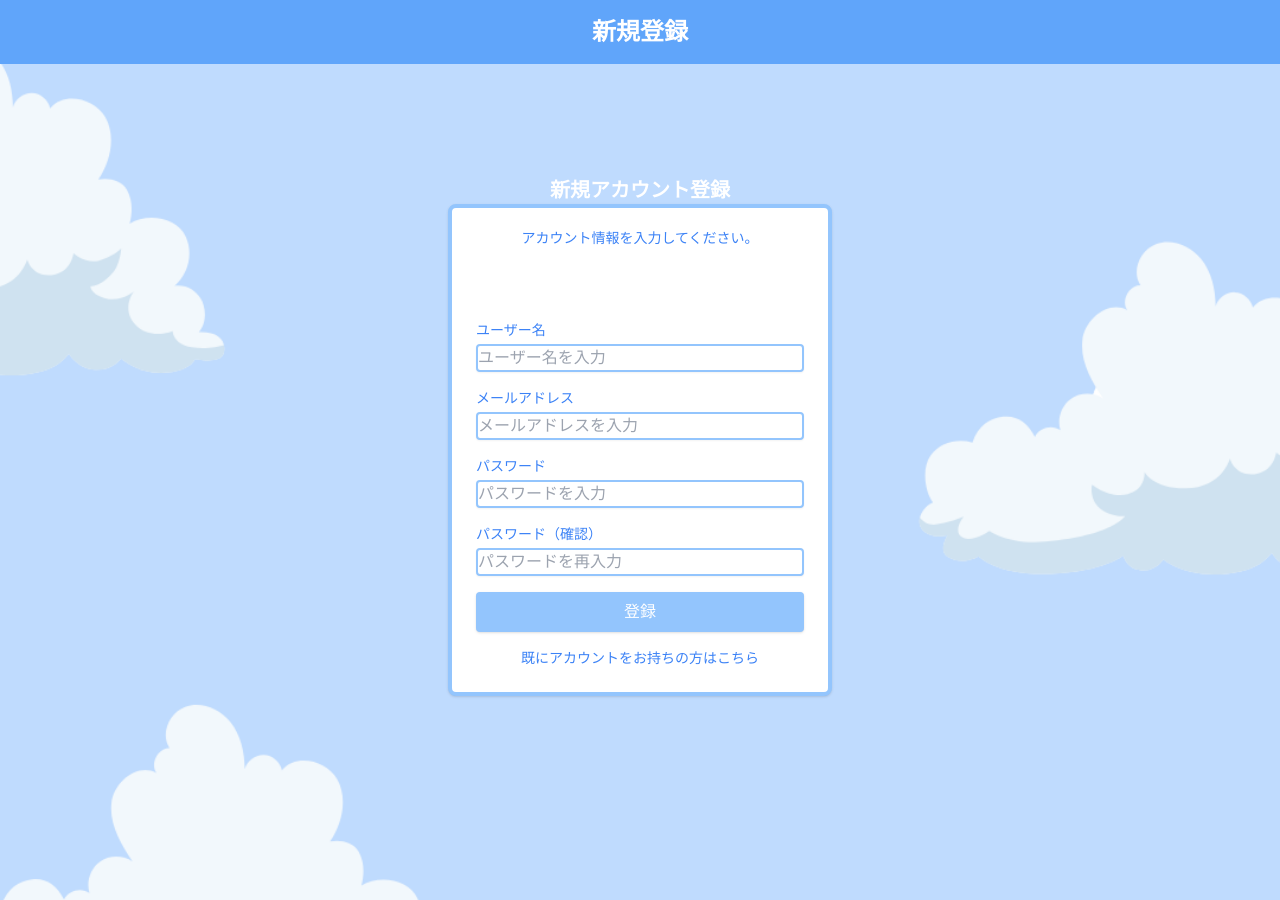
it: SignUpPage › validates username
Type "invalid@username" into the field labelled "ユーザー名" at x=640, y=358, box [476,344,804,372]
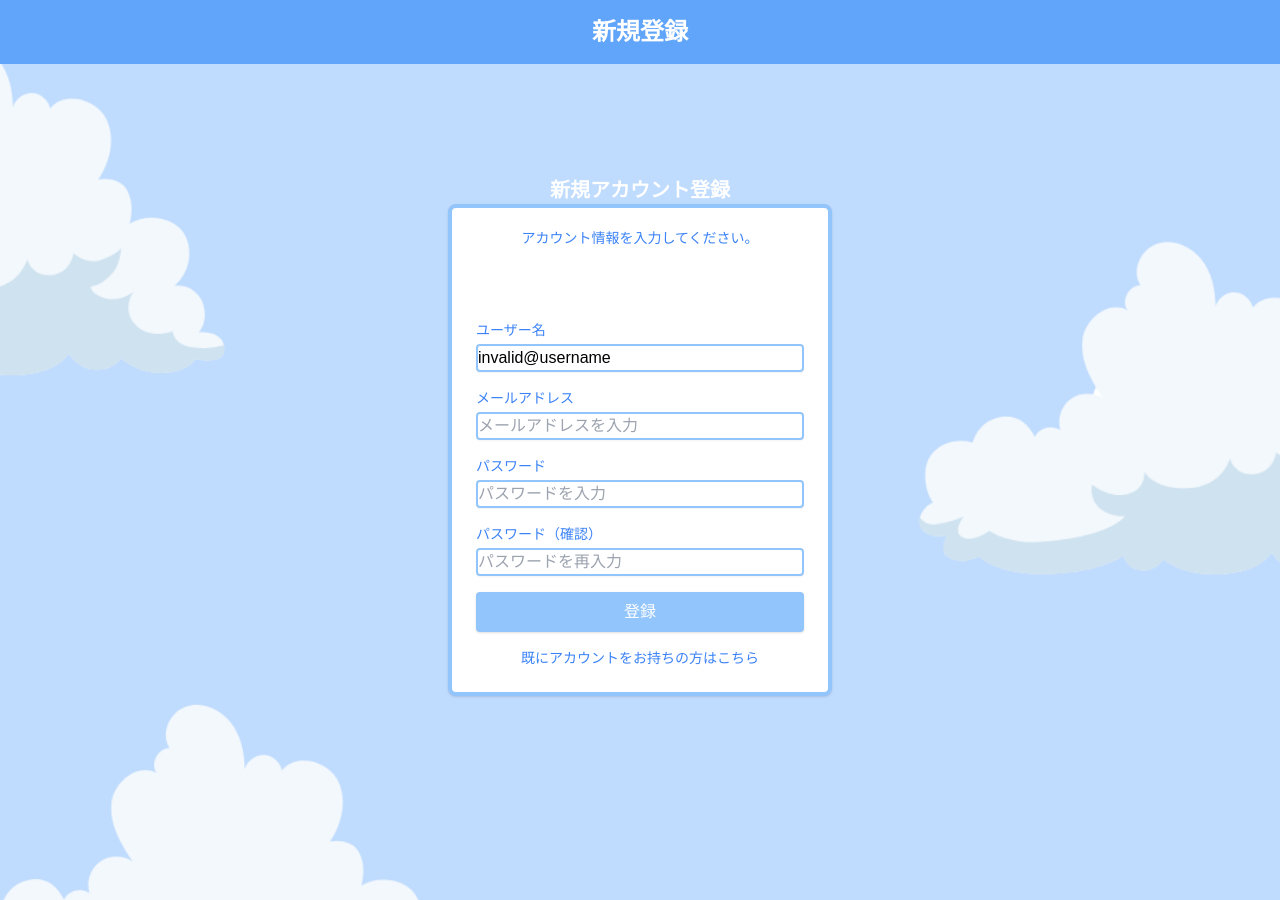
Submit the form, box [476,320,804,632]
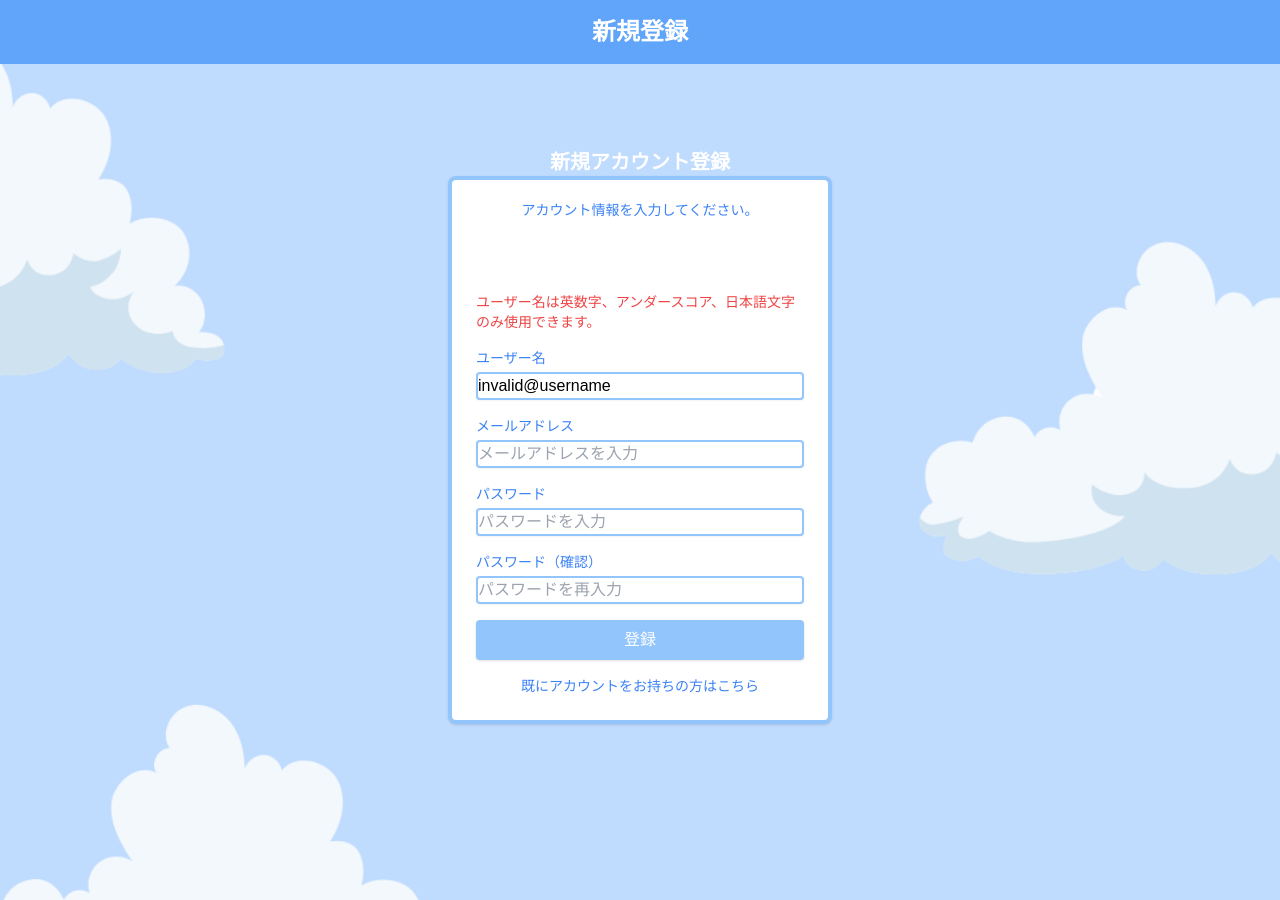
Result: the text with test id "error-message" reads "ユーザー名は英数字、アンダースコア、日本語文字のみ使用できます。" at [476,294,795,330]
